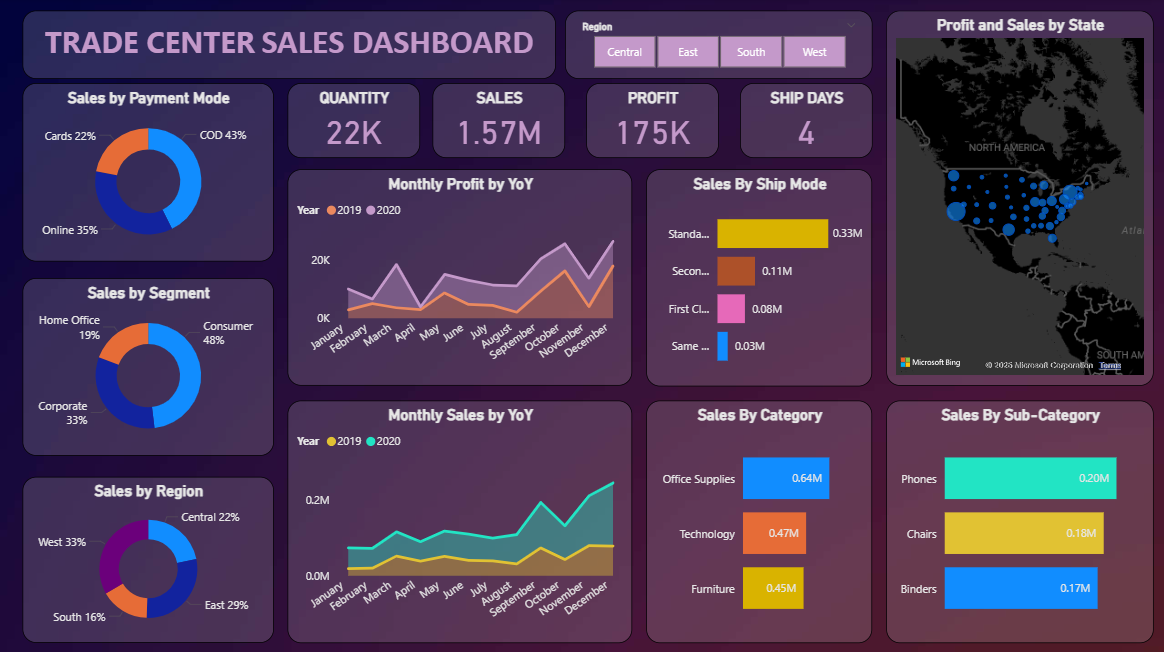

What the dashboard file says about the page in this screenshot:
{"tool":"powerbi","page":{"name":"Page 1","canvas":[1280,720],"ordinal":0},"visuals":[{"type":"card","title":"SALES","fields":{"Values":["Sum(SuperStore_Sales_Dataset.Sales)"]},"box":[474.8,93.3,145.5,82.3],"z":0},{"type":"clusteredBarChart","title":"Sales By Category","fields":{"Category":["SuperStore_Sales_Dataset.Category"],"Y":["Sum(SuperStore_Sales_Dataset.Sales)"]},"box":[709.4,441.9,248.4,266.2],"z":1000},{"type":"clusteredBarChart","title":"Sales By Sub-Category","fields":{"Y":["Sum(SuperStore_Sales_Dataset.Sales)"],"Category":["SuperStore_Sales_Dataset.Sub-Category"]},"box":[972.9,441.9,293.7,266.2],"z":2000},{"type":"clusteredBarChart","title":"Sales By Ship Mode","fields":{"Y":["Sum(SuperStore_Sales_Dataset.Sales)"],"Category":["SuperStore_Sales_Dataset.Ship Mode"]},"box":[709.4,188,248.4,238.8],"z":3000},{"type":"stackedAreaChart","title":"Monthly Sales by YoY","fields":{"Category":["SuperStore_Sales_Dataset.Order Date.Variation.Date Hierarchy.Month","SuperStore_Sales_Dataset.Order Date.Variation.Date Hierarchy.Day"],"Y":["Sum(SuperStore_Sales_Dataset.Sales)"],"Series":["SuperStore_Sales_Dataset.Order Date.Variation.Date Hierarchy.Year"]},"box":[315.6,441.9,378.7,266.2],"z":4000},{"type":"stackedAreaChart","title":"Monthly Profit by YoY","fields":{"Category":["SuperStore_Sales_Dataset.Order Date.Variation.Date Hierarchy.Month","SuperStore_Sales_Dataset.Order Date.Variation.Date Hierarchy.Day"],"Series":["SuperStore_Sales_Dataset.Order Date.Variation.Date Hierarchy.Year"],"Y":["Sum(SuperStore_Sales_Dataset.Profit)"]},"box":[315.6,188,378.7,237.4],"z":5000},{"type":"map","title":"Profit and Sales by State","fields":{"Category":["SuperStore_Sales_Dataset.State"],"Size":["Sum(SuperStore_Sales_Dataset.Sales)"]},"box":[972.9,13.7,293.7,411.7],"z":6000},{"type":"donutChart","title":"Sales by Segment","fields":{"Category":["SuperStore_Sales_Dataset.Segment"],"Y":["Sum(SuperStore_Sales_Dataset.Sales)"]},"box":[24.7,307.4,275.8,194.9],"z":7000},{"type":"donutChart","title":"Sales by Region","fields":{"Y":["Sum(SuperStore_Sales_Dataset.Sales)"],"Series":["SuperStore_Sales_Dataset.Region"]},"box":[24.7,525.6,275.8,182.5],"z":8000},{"type":"donutChart","title":"Sales by Payment Mode","fields":{"Y":["Sum(SuperStore_Sales_Dataset.Sales)"],"Category":["SuperStore_Sales_Dataset.Payment Mode"]},"box":[24.7,93.3,275.8,196.2],"z":9000},{"type":"slicer","fields":{"Values":["SuperStore_Sales_Dataset.Region"]},"box":[620.2,13.7,337.6,75.5],"z":10000},{"type":"textbox","box":[24.7,13.7,585.9,75.5],"z":11000},{"type":"card","title":"PROFIT","fields":{"Values":["Sum(SuperStore_Sales_Dataset.Profit)"]},"box":[643.6,93.3,145.5,82.3],"z":12000},{"type":"card","title":"QUANTITY","fields":{"Values":["Sum(SuperStore_Sales_Dataset.Quantity)"]},"box":[315.6,93.3,145.5,82.3],"z":13000},{"type":"card","title":"SHIP DAYS","fields":{"Values":["Avg(SuperStore_Sales_Dataset.Avg Delivery)"]},"box":[812.4,93.3,145.5,82.3],"z":14000}]}

Visuals, with their boxes in screenshot pixels (x1, y1, x2, y2), scaled from the page's 1280x720 canvas onto the 1164x652 screenshot:
"SALES" card: box(432, 84, 564, 159)
"Sales By Category" clusteredBarChart: box(645, 400, 871, 641)
"Sales By Sub-Category" clusteredBarChart: box(885, 400, 1152, 641)
"Sales By Ship Mode" clusteredBarChart: box(645, 170, 871, 386)
"Monthly Sales by YoY" stackedAreaChart: box(287, 400, 631, 641)
"Monthly Profit by YoY" stackedAreaChart: box(287, 170, 631, 385)
"Profit and Sales by State" map: box(885, 12, 1152, 385)
"Sales by Segment" donutChart: box(22, 278, 273, 455)
"Sales by Region" donutChart: box(22, 476, 273, 641)
"Sales by Payment Mode" donutChart: box(22, 84, 273, 262)
slicer - SuperStore_Sales_Dataset.Region: box(564, 12, 871, 81)
textbox: box(22, 12, 555, 81)
"PROFIT" card: box(585, 84, 718, 159)
"QUANTITY" card: box(287, 84, 419, 159)
"SHIP DAYS" card: box(739, 84, 871, 159)
